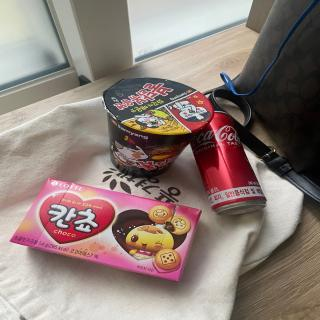cocacola: (185, 106, 274, 220)
